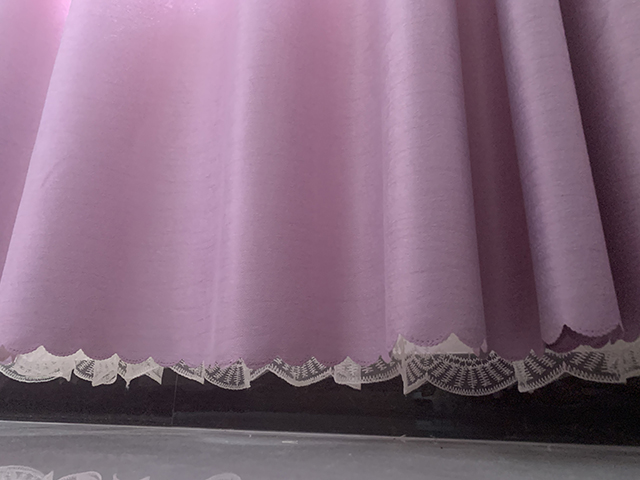curtain: (1, 1, 640, 399)
